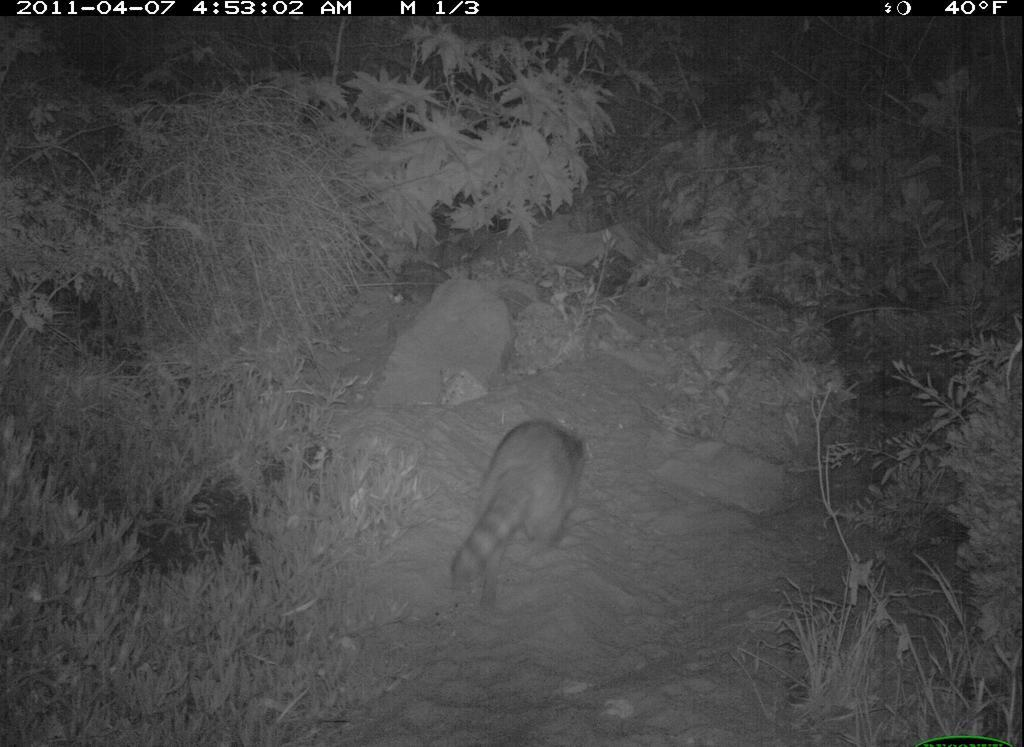raccoon: (440, 408, 596, 624)
